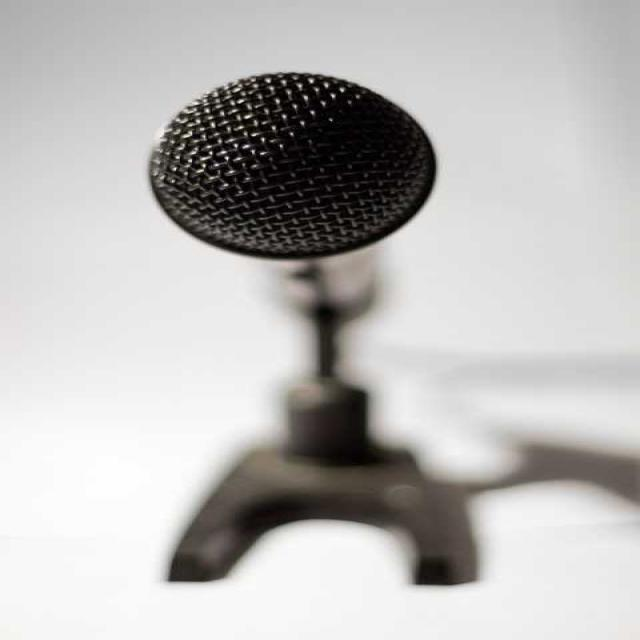microphone: (96, 55, 496, 329)
